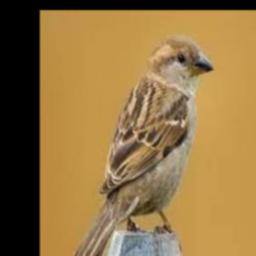Sparrow: (71, 35, 214, 256)
